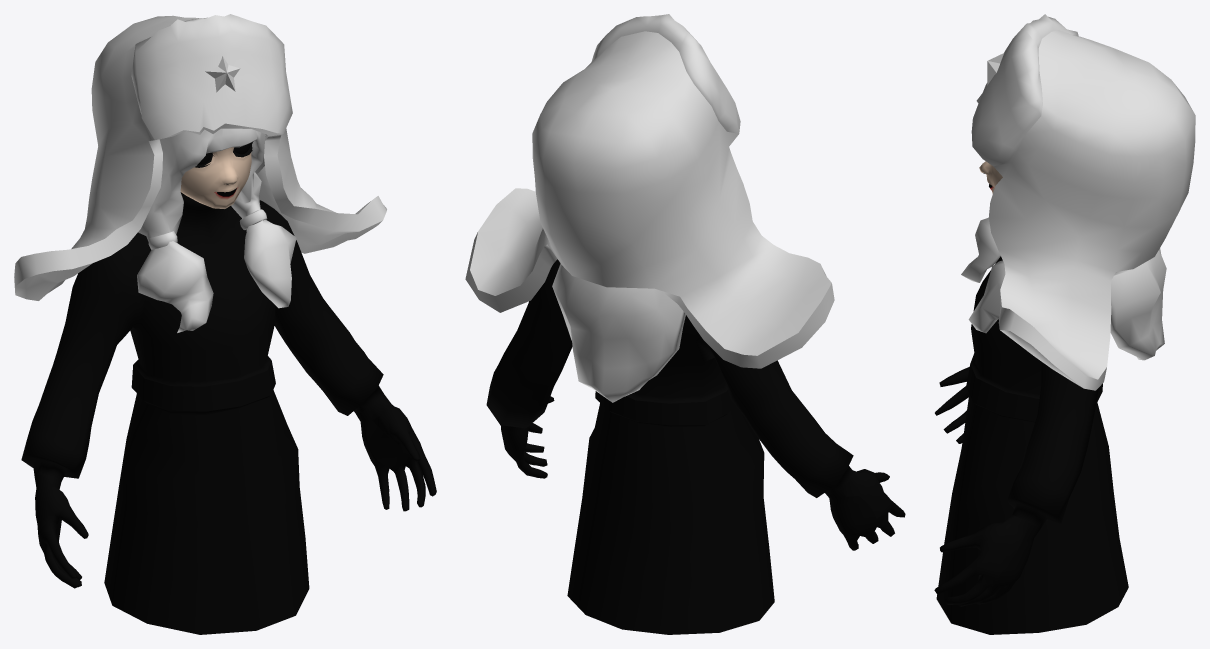
The model's file is C06_Red Riding Hood_model.fbx.
The picture shows the model from 3 angles, left to right: view 1: azimuth 30°, elevation 25°; view 2: azimuth 150°, elevation 25°; view 3: azimuth 270°, elevation 25°; orthographic projection.
Parts seen in each view (by area): view 1: body_low, red_low, haer_low; view 2: red_low, body_low, haer_low; view 3: red_low, body_low, haer_low.
Boxes of the visible parts, x1=… form: body_low: x1=21, y1=141, x2=436, y2=634; red_low: x1=14, y1=14, x2=386, y2=300; haer_low: x1=137, y1=128, x2=296, y2=332; red_low: x1=465, y1=14, x2=834, y2=368; body_low: x1=486, y1=259, x2=905, y2=634; haer_low: x1=552, y1=263, x2=685, y2=402; red_low: x1=971, y1=14, x2=1195, y2=390; body_low: x1=934, y1=161, x2=1128, y2=634; haer_low: x1=961, y1=217, x2=1166, y2=360.
Bounding box in the file's own units: 224 × 330 × 135.
